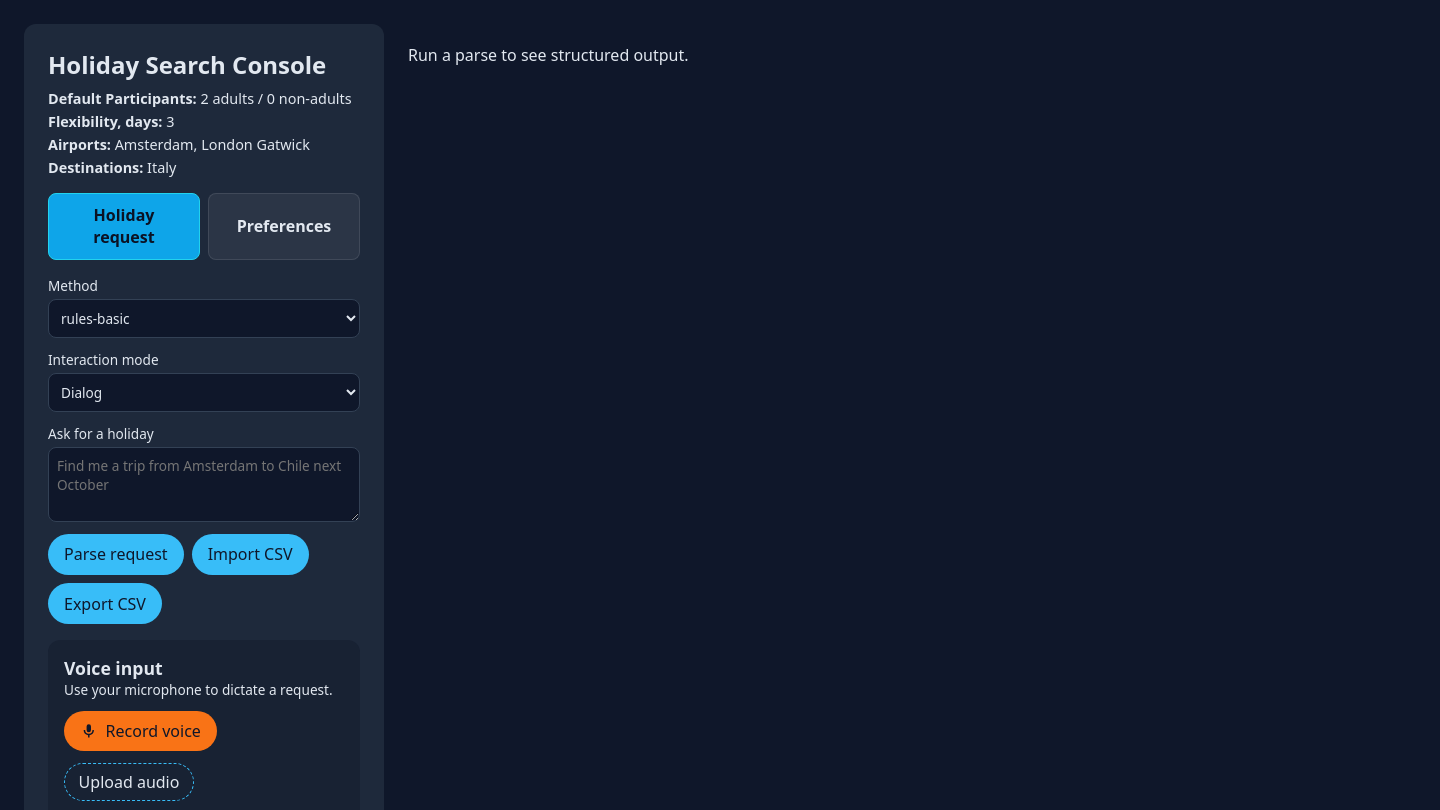
Test: Holiday search console › renders mapped filters when parsing preferences
Expected: the element with test id "fixtures-loaded" is shown, 48,89 -> 360,177
Click the button with test id "mode-toggle-preferences": (284, 226) 208,193 -> 360,260
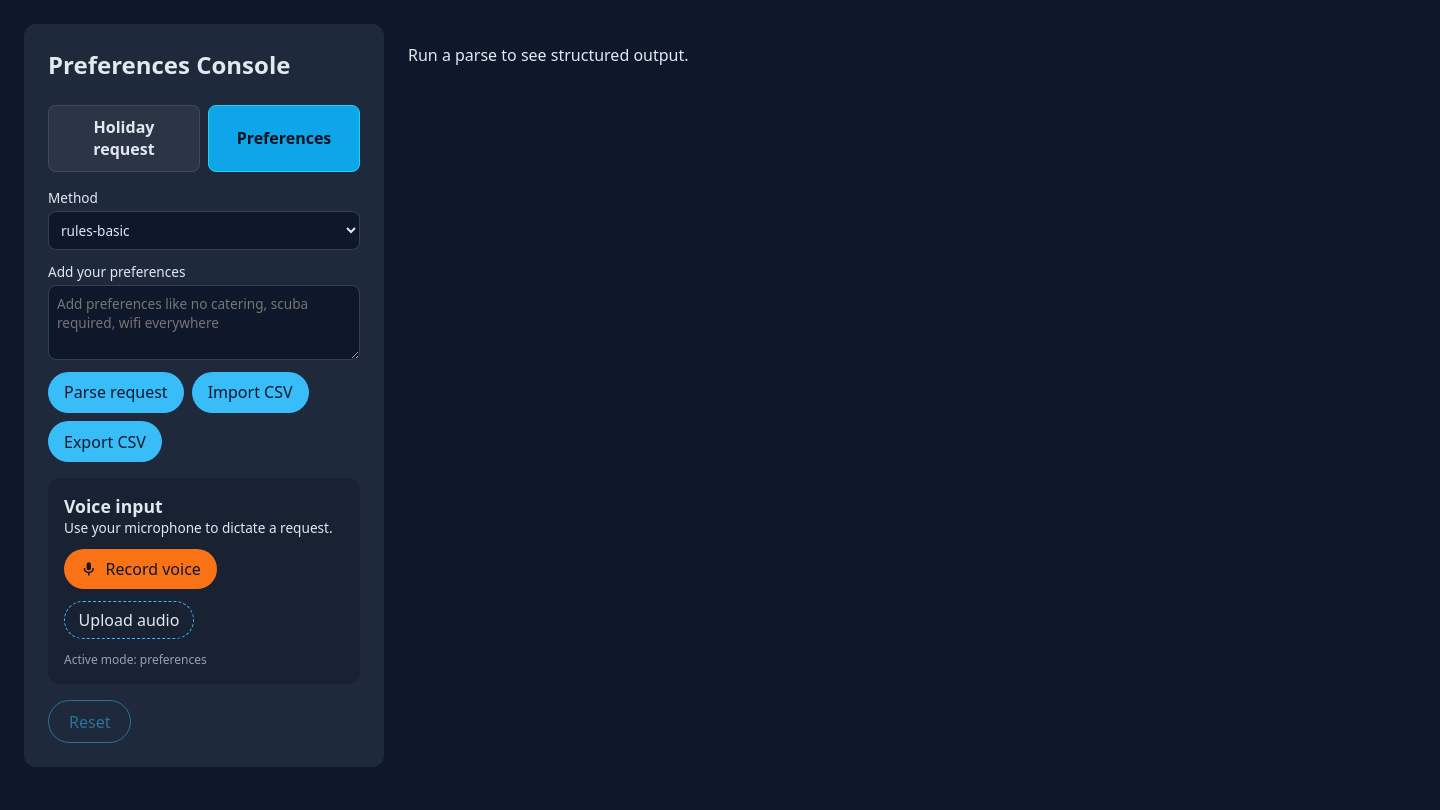
Replace the text in the text box with test id "query-input" with "No catering but scuba required": (204, 322) 48,285 -> 360,360
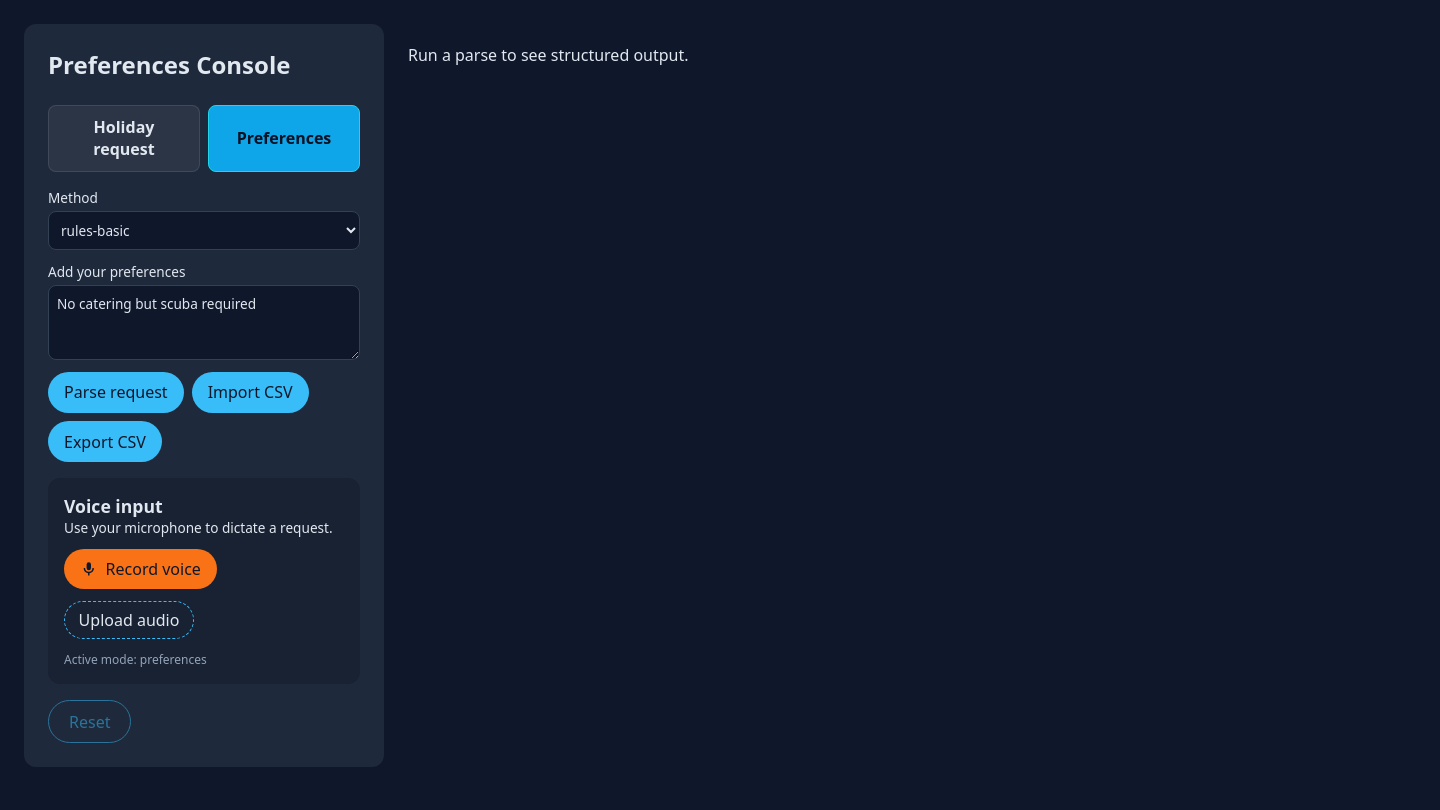
Submit the form with test id "parse-form", box 48,188 -> 360,462
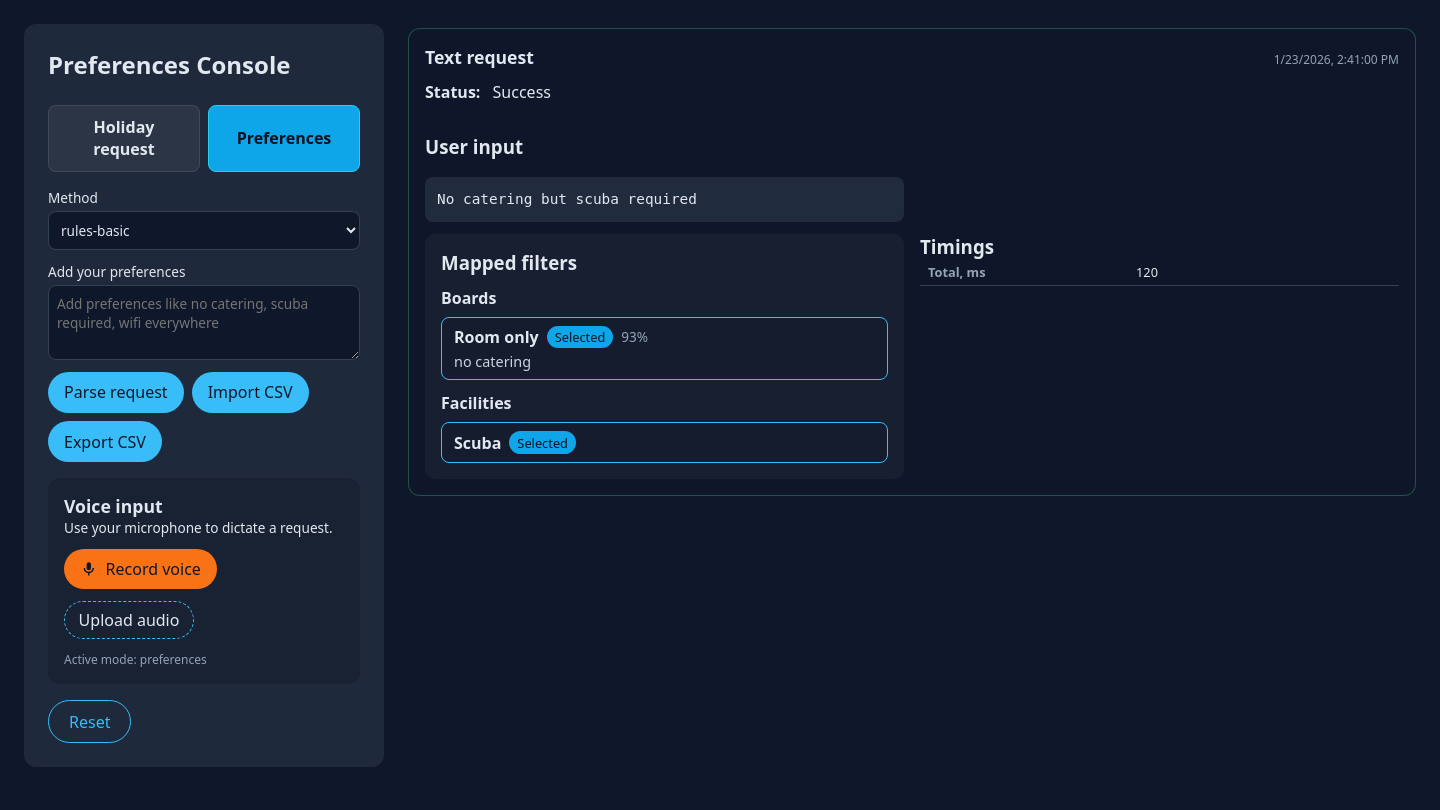
Expected: the element with test id "mapped-filters" is shown, 425,234 -> 904,479
Expected: the heading "Boards" is shown, 441,287 -> 496,309
Expected: the heading "Facilities" is shown, 441,392 -> 512,414
